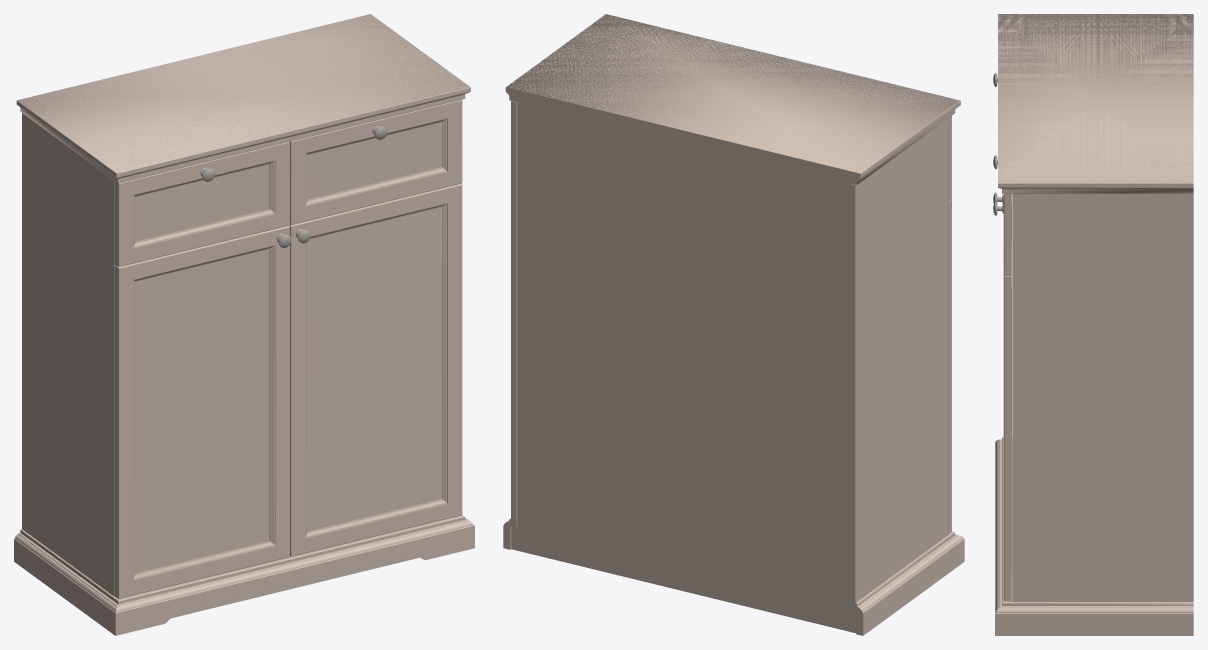
The picture shows the model from 3 angles, left to right: view 1: azimuth 30°, elevation 25°; view 2: azimuth 150°, elevation 25°; view 3: azimuth 270°, elevation 25°; orthographic projection. The views are drawn at different scales.
Visible parts, largest first — view 1: Object_6, Object_9, Object_2; view 2: Object_6, Object_9; view 3: Object_6, Object_9, Object_2.
Part boxes in pixels (left/top/right/bottom): Object_6: left=16, top=14, right=470, bottom=618; Object_9: left=14, top=99, right=474, bottom=635; Object_2: left=200, top=125, right=387, bottom=247; Object_6: left=505, top=14, right=960, bottom=633; Object_9: left=503, top=116, right=964, bottom=635; Object_6: left=998, top=14, right=1193, bottom=601; Object_9: left=995, top=193, right=1193, bottom=635; Object_2: left=993, top=73, right=1003, bottom=215.
Size of the model in its own units: 1158 by 1419 by 571.
